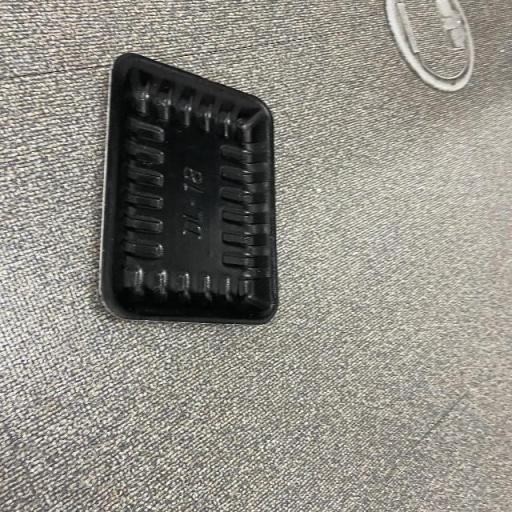styrofoam: (102, 54, 277, 323)
